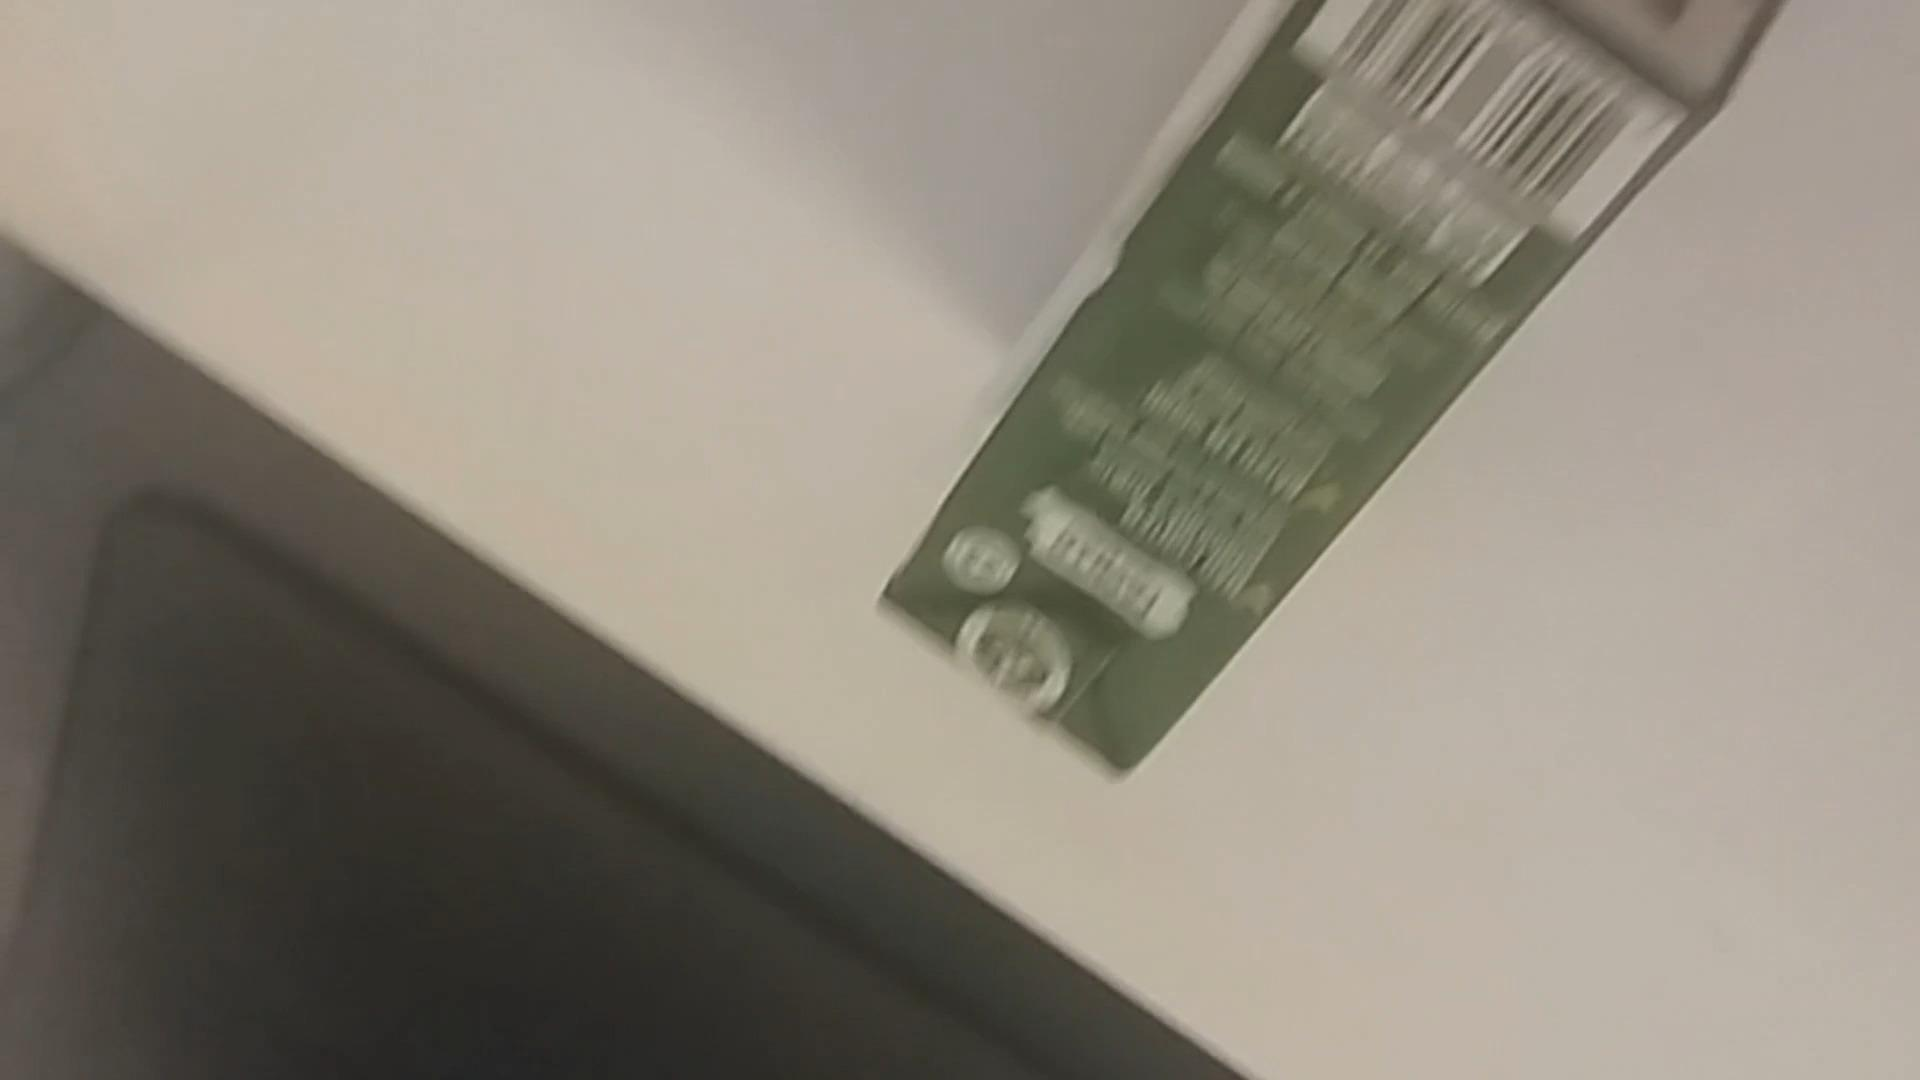coco: (873, 0, 1803, 790)
